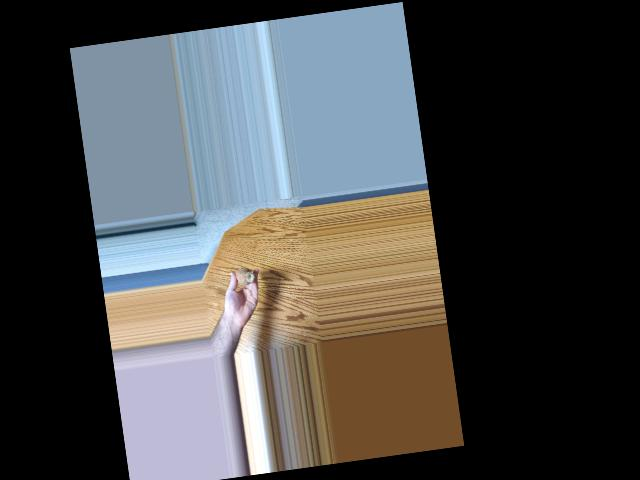sweet_potato: (234, 265, 254, 286)
